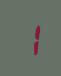one: (19, 19, 39, 56)
